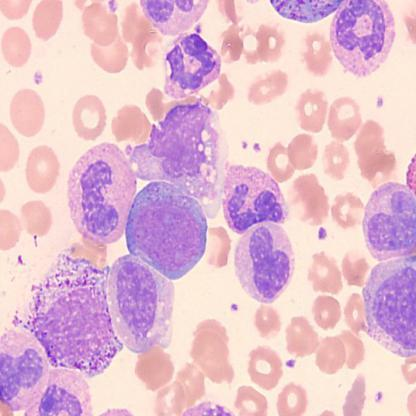Promyelocyte: (124, 181, 210, 282)
